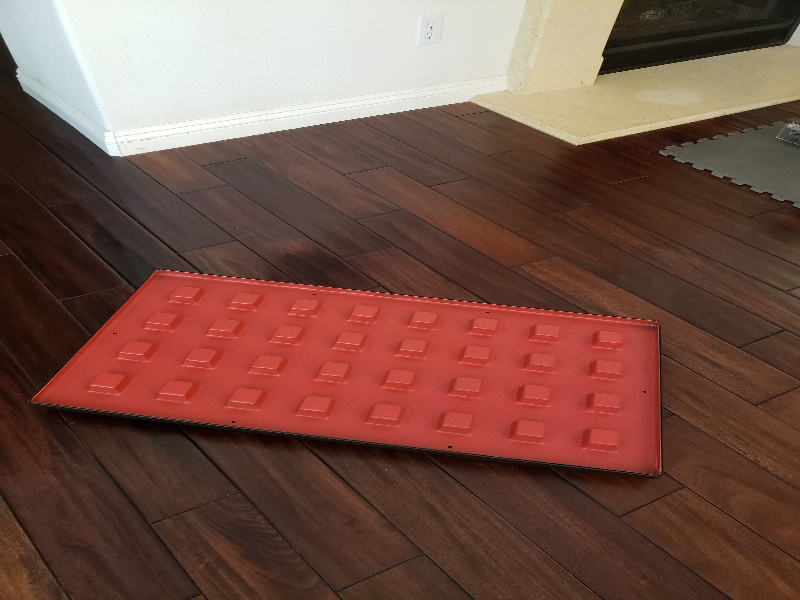skystone_base: (23, 264, 670, 484)
